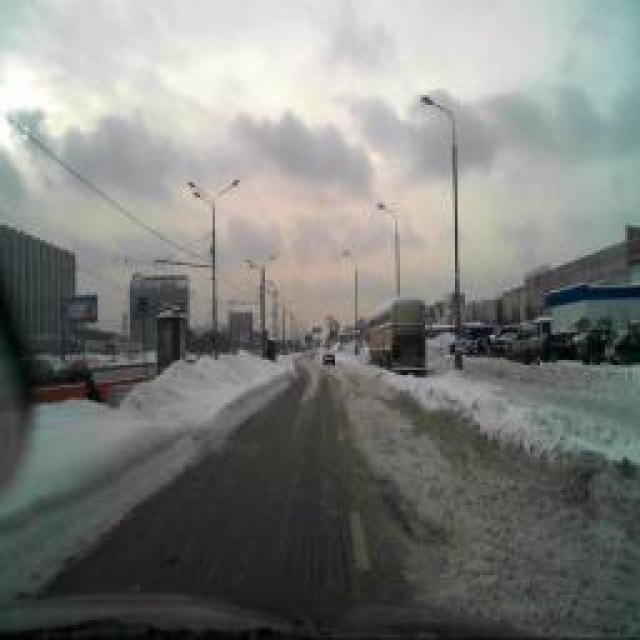sign: (136, 295, 149, 315)
